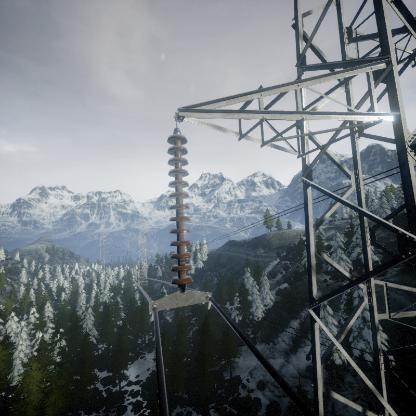insulator: (165, 127, 193, 288)
